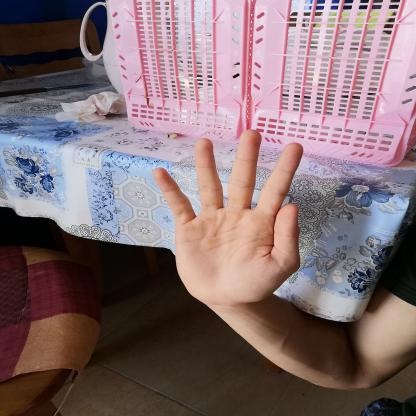SHEEN: (141, 122, 318, 316)
